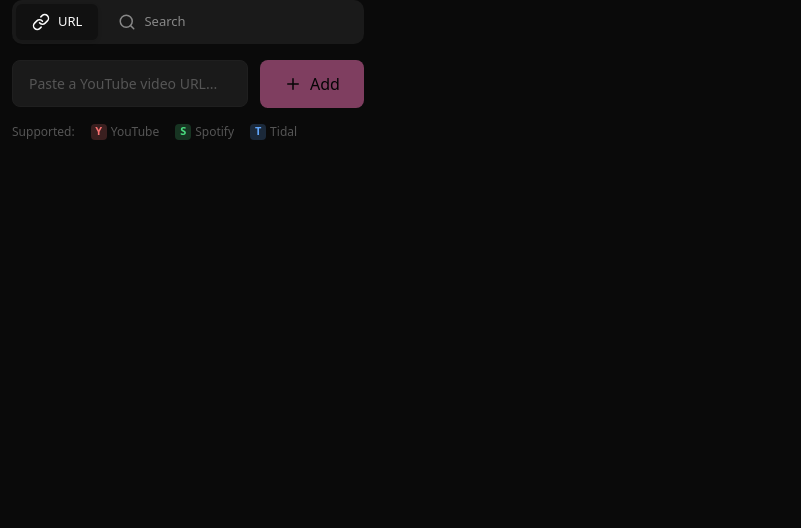
Test: URLInput channel detection › opens ChannelDownloadModal when a channel URL is typed and submitted
This screenshot has width=801, height=528.
Type "https://www.youtube.com/@TestChannel" into the field with placeholder "Paste a YouTube video URL..." at (130, 83), box [12, 60, 248, 106]
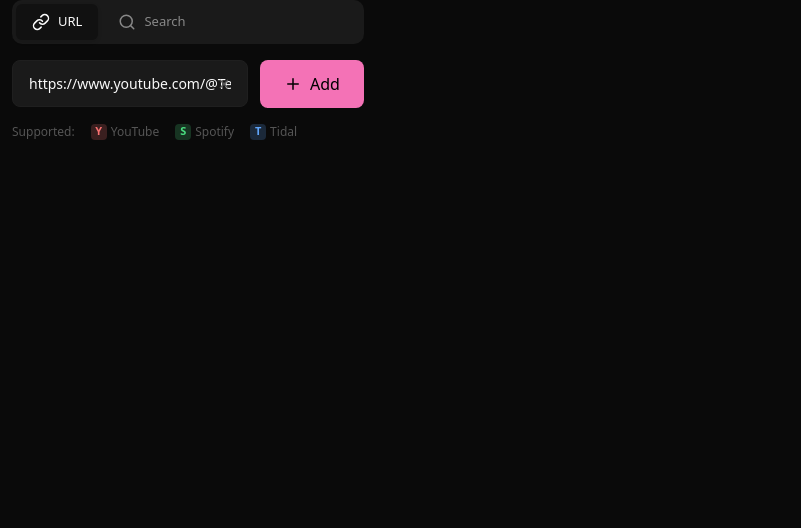
Press Enter in the field with placeholder "Paste a YouTube video URL...", box [12, 60, 248, 106]
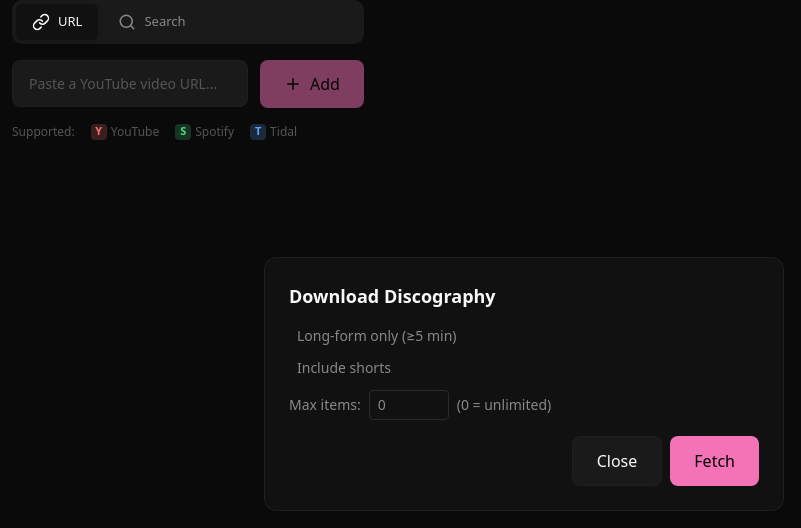
Expected: the heading "Download Discography" is shown, [289, 284, 496, 308]
